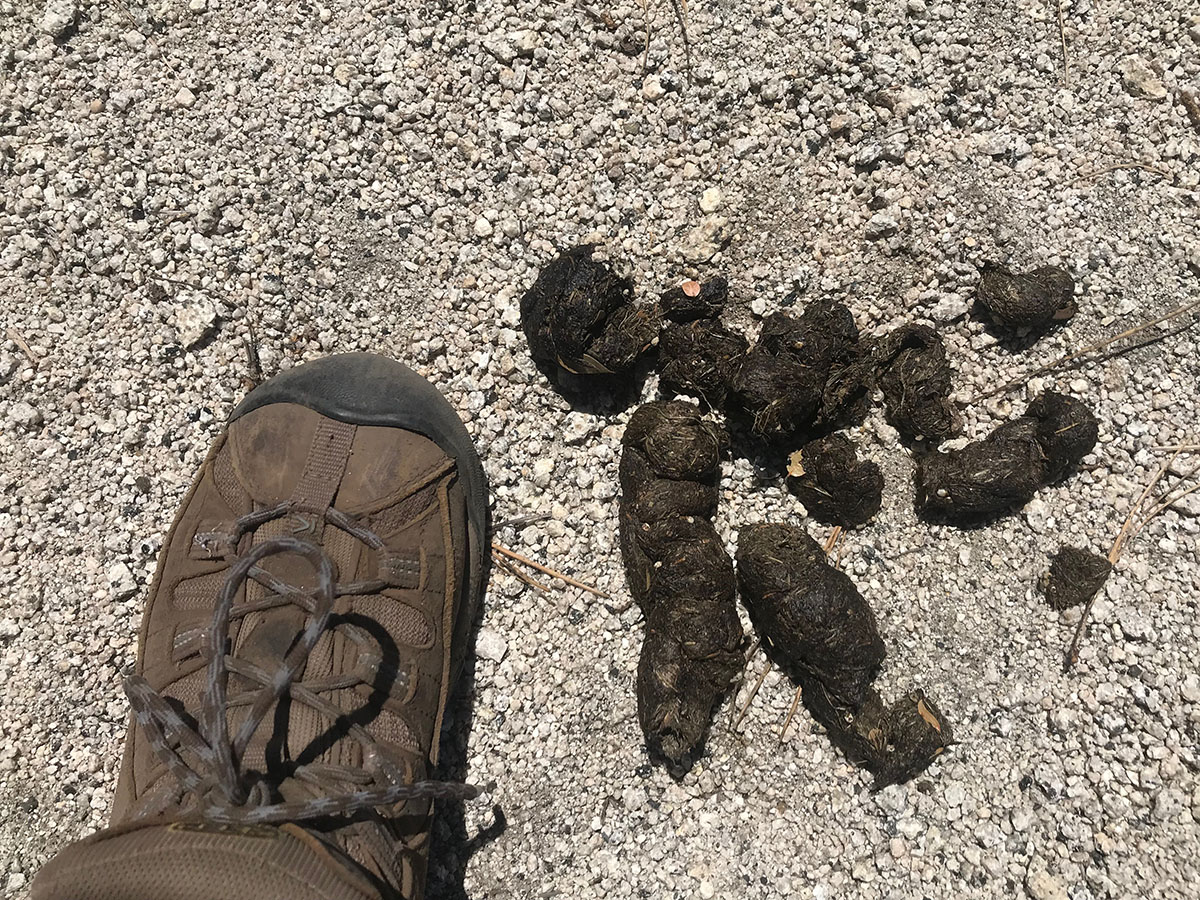Elk: (558, 253, 1017, 714)
